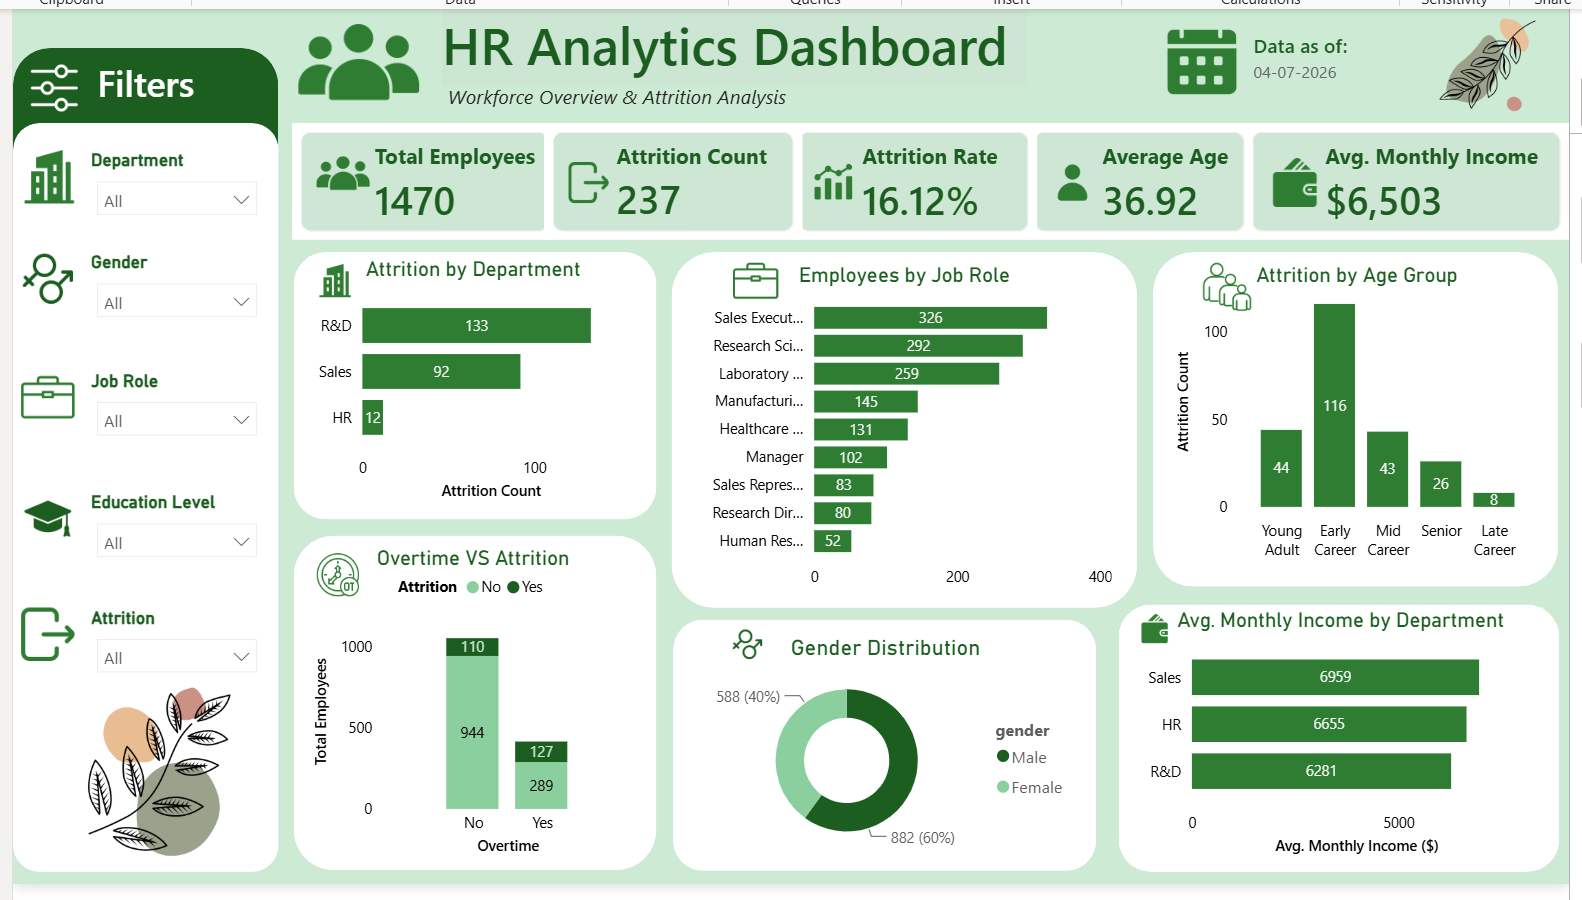

The page's visual inventory and layout, read from the dashboard file:
{"tool":"powerbi","page":{"name":"Page 1","canvas":[1280,720],"ordinal":0},"visuals":[{"type":"shape","box":[0,31.6,218.3,122.1],"z":0},{"type":"cardVisual","fields":{"Data":["hr_data.Total Employees"]},"box":[229.9,93.7,218.6,96.2],"z":1000},{"type":"cardVisual","fields":{"Data":["Avg(hr_data.monthlyincome)"]},"box":[1011.9,93.7,268.6,96.2],"z":2000},{"type":"shape","box":[352.6,0,480.8,62.8],"z":3000},{"type":"image","box":[231.2,12.9,107.7,99.1],"z":4000},{"type":"textbox","box":[352.6,55.1,323.1,37.2],"z":5000},{"type":"shape","box":[0,93.2,218.5,616.2],"z":6000},{"type":"cardVisual","fields":{"Data":["Avg(hr_data.age)"]},"box":[833.2,93.7,187.4,96.2],"z":7000},{"type":"cardVisual","fields":{"Data":["hr_data.Attrition Rate"]},"box":[639.6,93.7,203.6,96.2],"z":8000},{"type":"cardVisual","fields":{"Data":["hr_data.Attrition Count"]},"box":[437.2,93.7,212.4,96.2],"z":9000},{"type":"image","box":[0,46,67.5,38.8],"z":10000},{"type":"slicer","title":"Department","fields":{"Values":["hr_data.department"]},"box":[58.7,116.2,151.2,62.5],"z":11000},{"type":"image","box":[1.2,116.2,57.5,43.7],"z":12000},{"type":"slicer","title":"Gender","fields":{"Values":["hr_data.gender"]},"box":[58.7,199.9,151.2,62.5],"z":13000},{"type":"slicer","title":"Job Role","fields":{"Values":["hr_data.jobrole"]},"box":[58.7,297.3,151.2,62.5],"z":14000},{"type":"slicer","title":"Attrition","fields":{"Values":["hr_data.attrition"]},"box":[58.7,492.2,151.2,62.5],"z":15000},{"type":"slicer","title":"Education Level","fields":{"Values":["hr_data.education_level"]},"box":[58.7,397.2,151.2,62.5],"z":16000},{"type":"image","box":[0,199.9,57.5,43.7],"z":17000},{"type":"image","box":[0,297.3,57.5,43.7],"z":18000},{"type":"image","box":[0,397.2,57.5,43.7],"z":19000},{"type":"image","box":[0,492.2,57.5,43.7],"z":20000},{"type":"shape","box":[909,489.5,362.7,220],"z":21000},{"type":"image","box":[943.6,14.1,67.9,60.3],"z":22000},{"type":"shape","box":[1020.5,14.1,87.2,32.1],"z":23000},{"type":"textbox","box":[1015.4,37.2,89.7,34.6],"z":24000},{"type":"shape","box":[230.2,199.6,298.6,220],"z":25000},{"type":"barChart","title":"Attrition by Department","fields":{"Category":["hr_data.department"],"Y":["hr_data.Attrition Count"]},"box":[243.3,203.9,271,205.4],"z":26000},{"type":"shape","box":[230.2,432.7,298.6,275.3],"z":27000},{"type":"shape","box":[541.9,199.6,383.1,292.8],"z":28000},{"type":"shape","box":[938.2,199.6,333.6,275.3],"z":29000},{"type":"barChart","title":"Employees by Job Role","fields":{"Y":["Sum(hr_data.employeecount)"],"Category":["hr_data.jobrole"]},"box":[557.9,208.3,351.1,276.8],"z":30000},{"type":"columnChart","title":"Attrition by Age Group","fields":{"Category":["hr_data.age_group"],"Y":["hr_data.Attrition Count"]},"box":[952.7,208.3,305.9,252],"z":31000},{"type":"barChart","title":"Avg. Monthly Income by Department","fields":{"Category":["hr_data.department"],"Y":["Avg(hr_data.monthlyincome)"]},"box":[925,492.4,333.6,208.3],"z":32000},{"type":"columnChart","title":"Overtime VS Attrition","fields":{"Category":["hr_data.overtime"],"Y":["hr_data.Total Employees"],"Series":["hr_data.attrition"]},"box":[243.3,441.4,271,259.3],"z":33000},{"type":"shape","box":[543.4,502.6,348.2,206.9],"z":34000},{"type":"donutChart","title":"Gender Distribution","fields":{"Category":["hr_data.gender"],"Y":["CountNonNull(hr_data.gender)"]},"box":[557.9,514.2,320.5,186.5],"z":35000},{"type":"image","box":[1146.2,6.4,133.3,79.5],"z":36000},{"type":"image","box":[1.3,555.1,242.3,144.9],"z":37000},{"type":"image","box":[243.8,210,41.2,27.5],"z":38000},{"type":"image","box":[581.2,510,46.2,26.2],"z":39000},{"type":"image","box":[592.5,203.8,37.5,40],"z":40000},{"type":"image","box":[925,495,27.5,30],"z":41000},{"type":"image","box":[967.5,208.8,62.5,40],"z":42000},{"type":"image","box":[248.8,441.2,36.2,47.5],"z":43000}]}

Visuals, with their boxes on the page's 1280x720 design canvas (x1, y1, x2, y2). These are canvas units, not pixel positions in the 1582x900 screenshot, which may show the page scaled, cropped or inside an application window:
shape: (x1=0, y1=32, x2=218, y2=154)
cardVisual - hr_data.Total Employees: (x1=230, y1=94, x2=448, y2=190)
cardVisual - Avg(hr_data.monthlyincome): (x1=1012, y1=94, x2=1280, y2=190)
shape: (x1=353, y1=0, x2=833, y2=63)
image: (x1=231, y1=13, x2=339, y2=112)
textbox: (x1=353, y1=55, x2=676, y2=92)
shape: (x1=0, y1=93, x2=218, y2=709)
cardVisual - Avg(hr_data.age): (x1=833, y1=94, x2=1021, y2=190)
cardVisual - hr_data.Attrition Rate: (x1=640, y1=94, x2=843, y2=190)
cardVisual - hr_data.Attrition Count: (x1=437, y1=94, x2=650, y2=190)
image: (x1=0, y1=46, x2=68, y2=85)
"Department" slicer: (x1=59, y1=116, x2=210, y2=179)
image: (x1=1, y1=116, x2=59, y2=160)
"Gender" slicer: (x1=59, y1=200, x2=210, y2=262)
"Job Role" slicer: (x1=59, y1=297, x2=210, y2=360)
"Attrition" slicer: (x1=59, y1=492, x2=210, y2=555)
"Education Level" slicer: (x1=59, y1=397, x2=210, y2=460)
image: (x1=0, y1=200, x2=58, y2=244)
image: (x1=0, y1=297, x2=58, y2=341)
image: (x1=0, y1=397, x2=58, y2=441)
image: (x1=0, y1=492, x2=58, y2=536)
shape: (x1=909, y1=490, x2=1272, y2=710)
image: (x1=944, y1=14, x2=1012, y2=74)
shape: (x1=1020, y1=14, x2=1108, y2=46)
textbox: (x1=1015, y1=37, x2=1105, y2=72)
shape: (x1=230, y1=200, x2=529, y2=420)
"Attrition by Department" barChart: (x1=243, y1=204, x2=514, y2=409)
shape: (x1=230, y1=433, x2=529, y2=708)
shape: (x1=542, y1=200, x2=925, y2=492)
shape: (x1=938, y1=200, x2=1272, y2=475)
"Employees by Job Role" barChart: (x1=558, y1=208, x2=909, y2=485)
"Attrition by Age Group" columnChart: (x1=953, y1=208, x2=1259, y2=460)
"Avg. Monthly Income by Department" barChart: (x1=925, y1=492, x2=1259, y2=701)
"Overtime VS Attrition" columnChart: (x1=243, y1=441, x2=514, y2=701)
shape: (x1=543, y1=503, x2=892, y2=710)
"Gender Distribution" donutChart: (x1=558, y1=514, x2=878, y2=701)
image: (x1=1146, y1=6, x2=1280, y2=86)
image: (x1=1, y1=555, x2=244, y2=700)
image: (x1=244, y1=210, x2=285, y2=238)
image: (x1=581, y1=510, x2=627, y2=536)
image: (x1=592, y1=204, x2=630, y2=244)
image: (x1=925, y1=495, x2=952, y2=525)
image: (x1=968, y1=209, x2=1030, y2=249)
image: (x1=249, y1=441, x2=285, y2=489)
